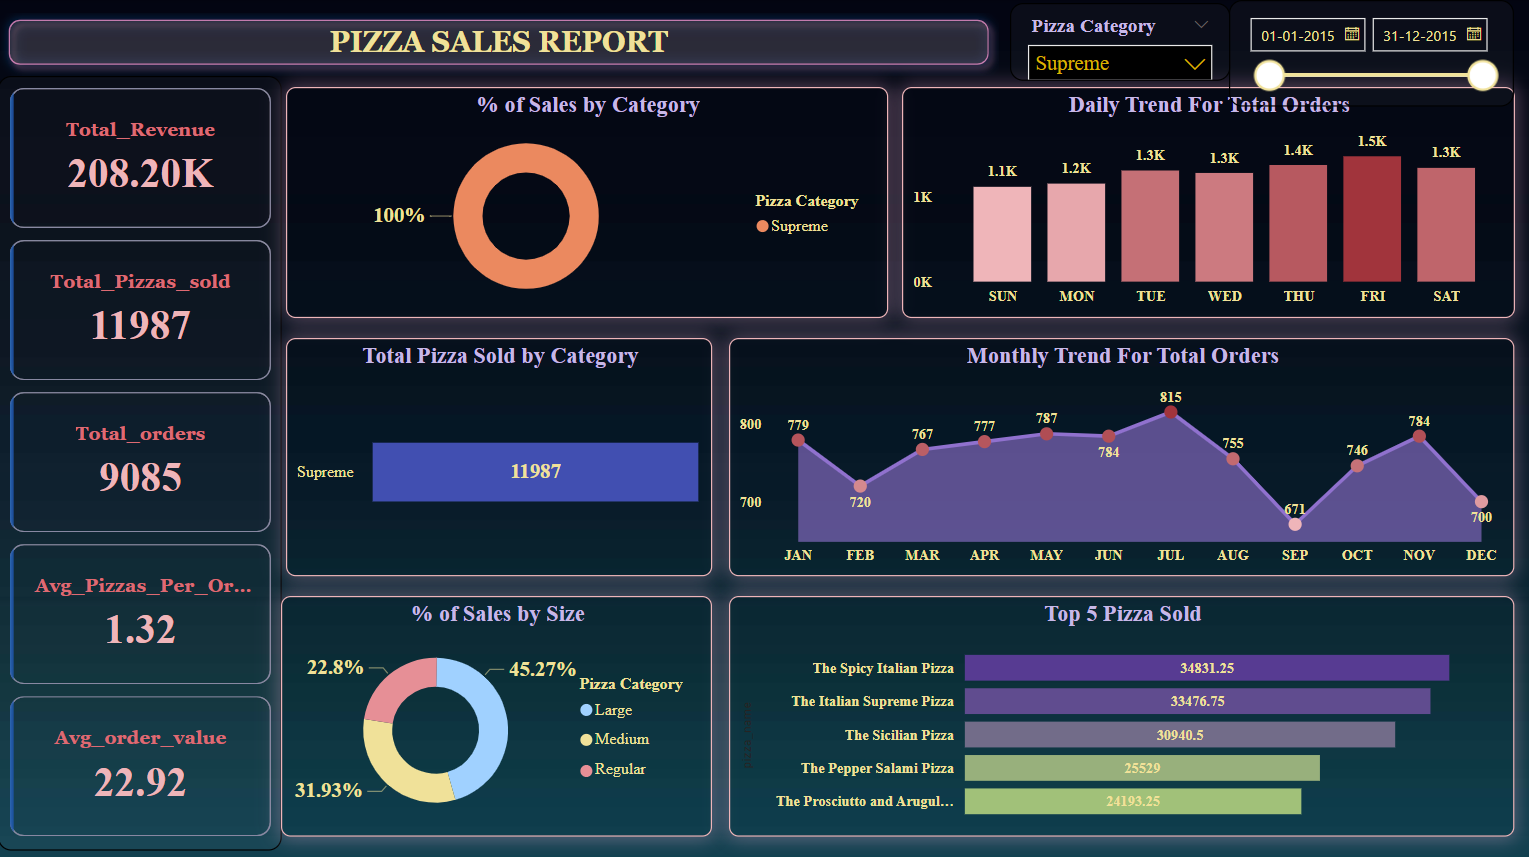

Layout of this report page (visuals, bound fields, positions):
{"tool":"powerbi","page":{"name":"Pizza_Sales","canvas":[1280,720],"ordinal":0},"visuals":[{"type":"cardVisual","fields":{"Data":["pizza_sales.Total_Revenue","pizza_sales.Total_Pizzas_sold","pizza_sales.Total_orders","pizza_sales.Avg_Pizzas_Per_Orders","pizza_sales.Avg_order_value"]},"box":[0,63.2,236.6,646.7],"z":0},{"type":"shape","box":[0,7.7,836.4,55.6],"z":1000},{"type":"clusteredColumnChart","title":"Daily Trend For Total Orders","fields":{"Category":["pizza_sales.Order Day"],"Y":["pizza_sales.Total_orders"]},"box":[755,72.8,511.6,192.6],"z":2000},{"type":"areaChart","title":"Monthly Trend For Total Orders","fields":{"Category":["pizza_sales.Order Month"],"Y":["pizza_sales.Total_orders"]},"box":[610.3,282.6,656.3,199.3],"z":3000},{"type":"donutChart","title":"% of Sales by Category","fields":{"Y":["pizza_sales.Total_Revenue"],"Category":["pizza_sales.pizza_category"]},"box":[240.5,72.8,503,192.6],"z":4000},{"type":"donutChart","title":"% of Sales by Size","fields":{"Y":["pizza_sales.Total_Revenue"],"Category":["pizza_sales.pizza_size"]},"box":[236.6,498.2,360.2,201.2],"z":5000},{"type":"funnel","title":"Total Pizza Sold by Category","fields":{"Category":["pizza_sales.pizza_category"],"Y":["pizza_sales.Total_Pizzas_sold"]},"box":[240.5,282.6,356.4,199.3],"z":6000},{"type":"clusteredBarChart","title":"Top 5 Pizza Sold","fields":{"Y":["pizza_sales.Total_Revenue"],"Category":["pizza_sales.pizza_name"]},"box":[610.3,498.2,656.3,201.2],"z":7000},{"type":"slicer","fields":{"Values":["pizza_sales.pizza_category"]},"box":[845,2.9,184,65.1],"z":8000},{"type":"slicer","fields":{"Values":["pizza_sales.order_date"]},"box":[1028.6,0,237.6,88.7],"z":9000}]}

Visuals, with their boxes in screenshot pixels (x1, y1, x2, y2), scaled from the page's 1280x720 canvas onto the 1529x857 screenshot:
cardVisual - pizza_sales.Total_Revenue x pizza_sales.Total_Pizzas_sold: [left=0, top=75, right=283, bottom=845]
shape: [left=0, top=9, right=999, bottom=75]
"Daily Trend For Total Orders" clusteredColumnChart: [left=902, top=87, right=1513, bottom=316]
"Monthly Trend For Total Orders" areaChart: [left=729, top=336, right=1513, bottom=574]
"% of Sales by Category" donutChart: [left=287, top=87, right=888, bottom=316]
"% of Sales by Size" donutChart: [left=283, top=593, right=713, bottom=832]
"Total Pizza Sold by Category" funnel: [left=287, top=336, right=713, bottom=574]
"Top 5 Pizza Sold" clusteredBarChart: [left=729, top=593, right=1513, bottom=832]
slicer - pizza_sales.pizza_category: [left=1009, top=3, right=1229, bottom=81]
slicer - pizza_sales.order_date: [left=1229, top=0, right=1513, bottom=106]
